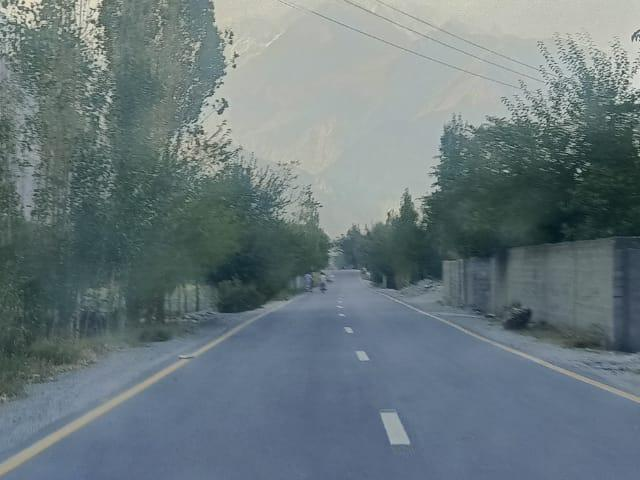sharp_turn: (290, 232, 422, 480)
